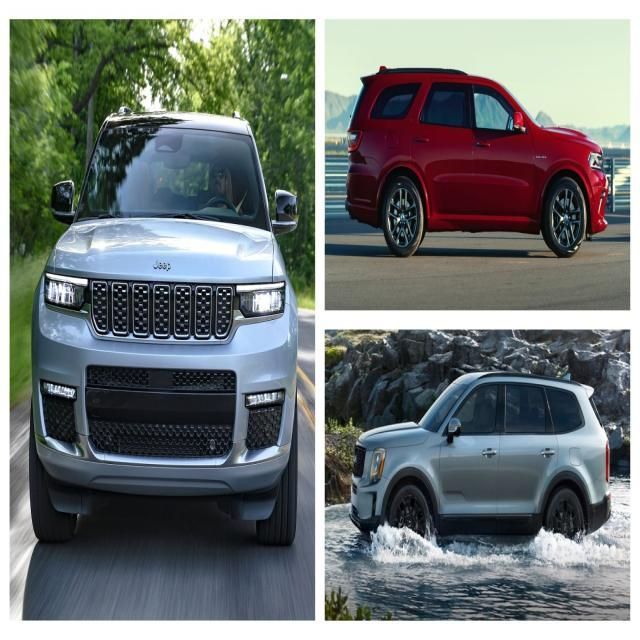sedan: (28, 106, 299, 546), (344, 64, 609, 258), (347, 368, 613, 552)
